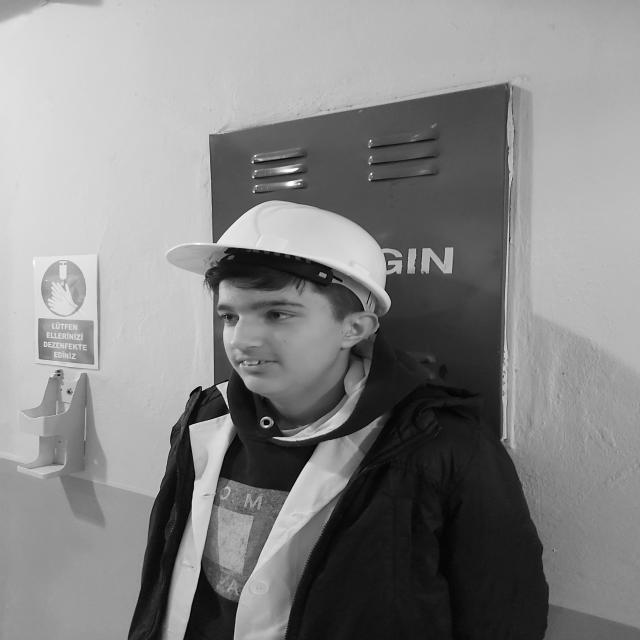safety_helmet: (162, 205, 391, 317)
